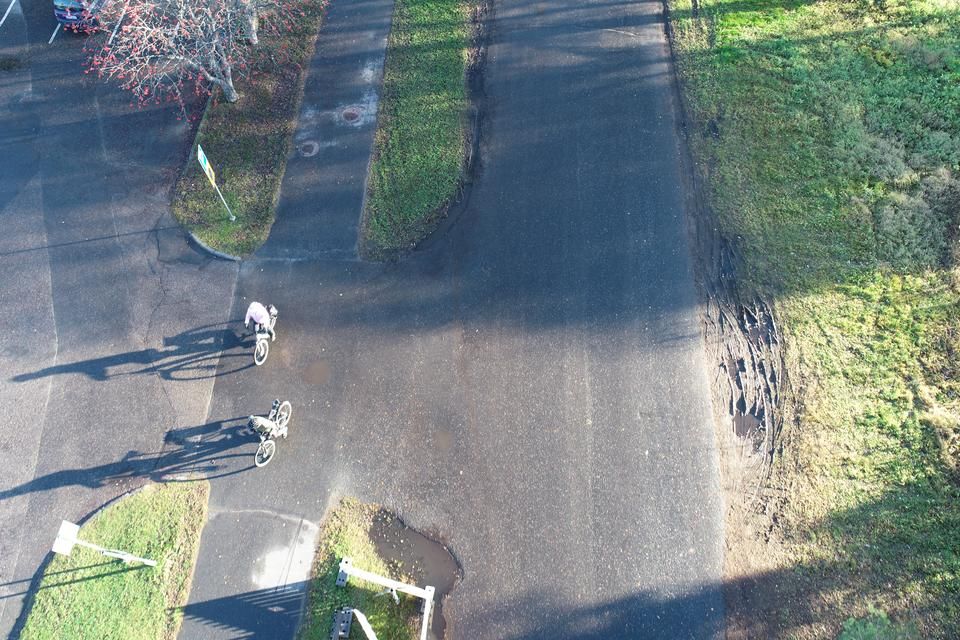intersection: (0, 201, 774, 583)
